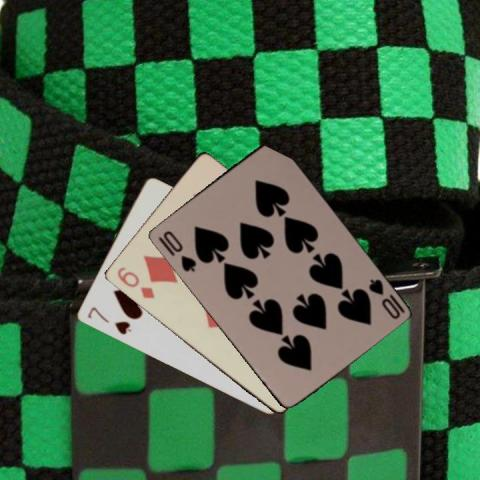10s: (364, 275, 406, 321), (160, 228, 198, 274)
6d: (113, 264, 156, 301)
7s: (84, 303, 133, 337)
